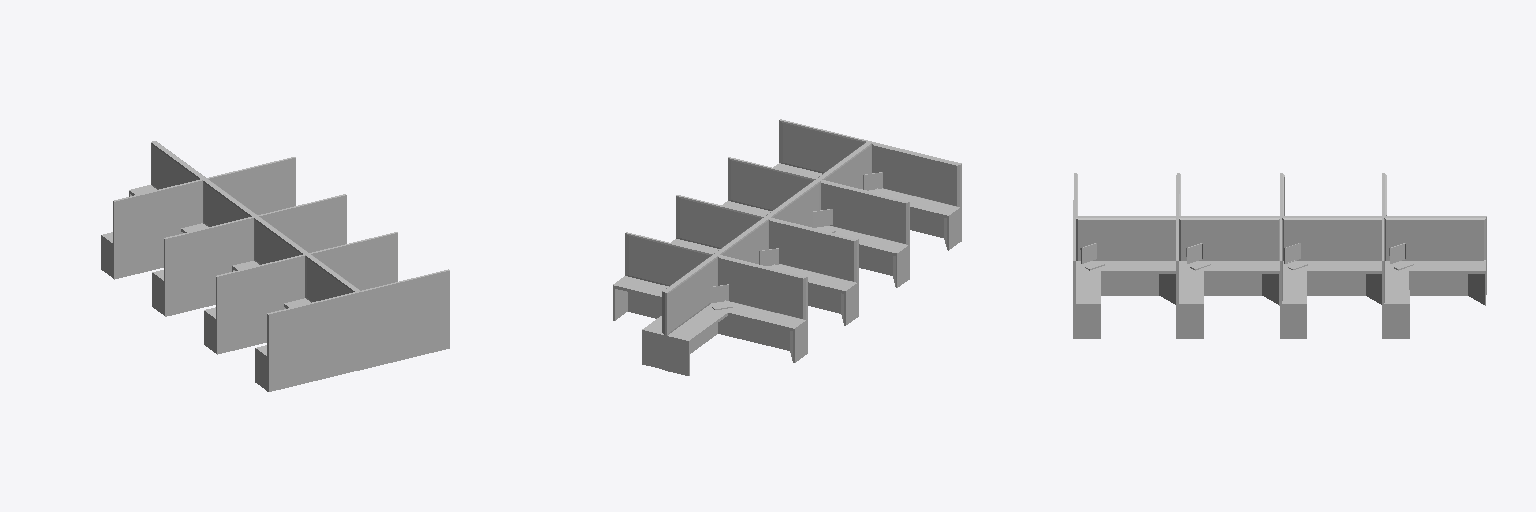
File: cubicle_section.obj
The picture shows the model from 3 angles: view 1: azimuth 30°, elevation 25°; view 2: azimuth 150°, elevation 25°; view 3: azimuth 270°, elevation 25°; orthographic projection.
Bounding box in the file's own units: 75.15 × 30.91 × 148.